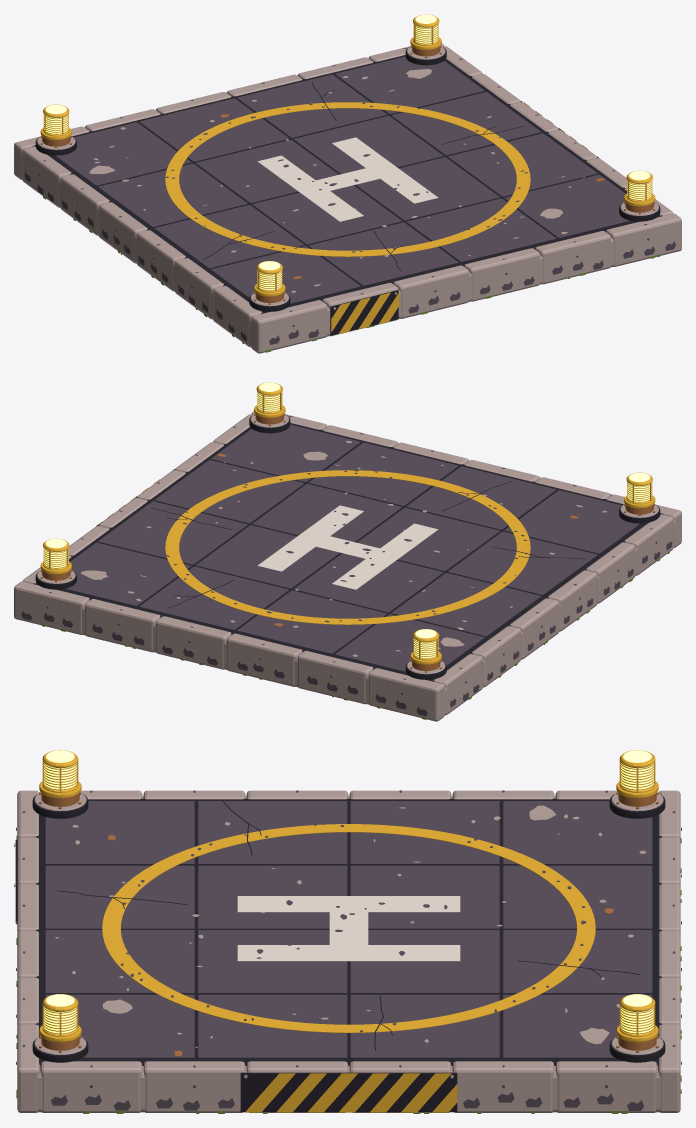
File: bld.helipad.glb
The picture shows the model from 3 angles, top to bottom: view 1: azimuth 30°, elevation 25°; view 2: azimuth 150°, elevation 25°; view 3: azimuth 270°, elevation 25°; orthographic projection. The views are drawn at different scales.
Visible parts, largest first — view 1: body, lamp_3, lamp_2, lamp_0, lamp_1; view 2: body, lamp_0, lamp_1, lamp_3, lamp_2; view 3: body, lamp_0, lamp_2, lamp_3, lamp_1.
Boxes of the visible parts, x1,y1,x2,y2 form: body: (14, 43, 681, 353); lamp_3: (35, 104, 76, 155); lamp_2: (405, 14, 446, 65); lamp_0: (249, 261, 290, 311); lamp_1: (619, 170, 660, 221); body: (14, 411, 681, 721); lamp_0: (619, 472, 660, 523); lamp_1: (249, 382, 290, 433); lamp_3: (405, 629, 446, 679); lamp_2: (35, 538, 76, 589); body: (14, 790, 681, 1113); lamp_0: (32, 750, 88, 818); lamp_2: (609, 994, 665, 1062); lamp_3: (609, 750, 665, 818); lamp_1: (32, 994, 88, 1062).
Bounding box in the file's own units: 10.07 × 1.6 × 10.07.
